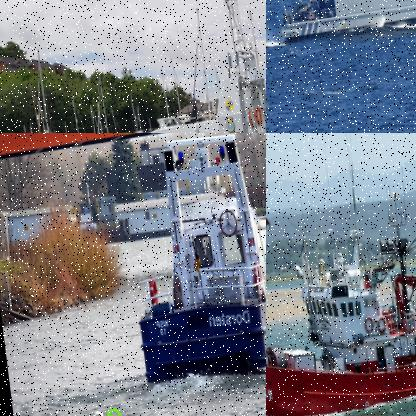Fishing Boat: (266, 133, 415, 415)
Military Ship: (114, 133, 265, 392), (266, 0, 415, 45)
Patrol Boat: (35, 0, 265, 132)
Sails Boat: (5, 48, 63, 132), (87, 72, 127, 132)
